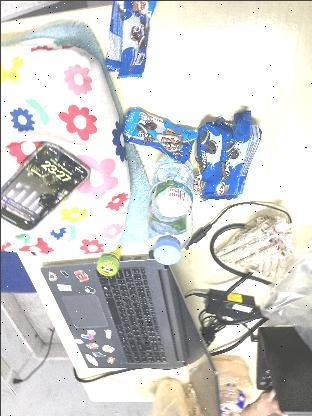Others: (258, 238, 312, 354), (214, 212, 294, 282), (118, 107, 196, 165), (217, 105, 262, 203), (101, 1, 155, 80), (197, 108, 231, 202), (206, 354, 252, 414), (150, 376, 202, 416), (214, 379, 244, 413)
Plastic Bottle: (146, 150, 196, 266)
